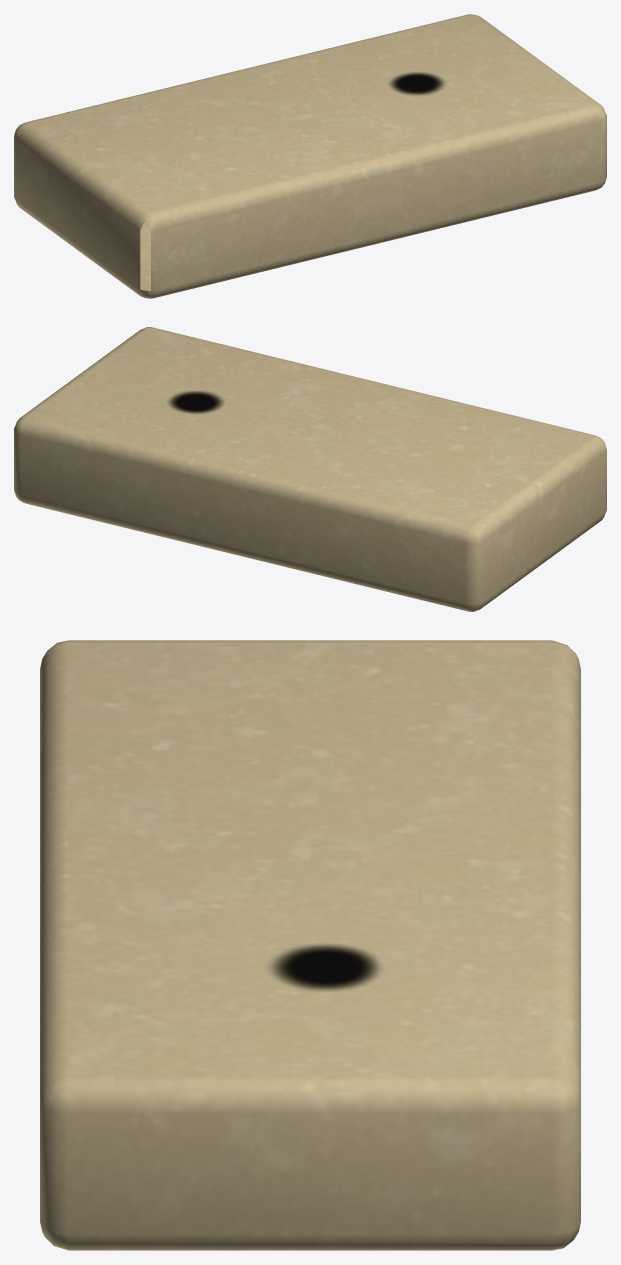
Rendered from SM_Domino_1_.fbx.
3 renders of one model, top to bottom at view 1: azimuth 30°, elevation 25°; view 2: azimuth 150°, elevation 25°; view 3: azimuth 270°, elevation 25°, orthographic. The views are drawn at different scales.
Parts seen in each view (by area): view 1: SM_Domino_1/; view 2: SM_Domino_1/; view 3: SM_Domino_1/.
Part boxes in pixels (left/top/right/bottom): SM_Domino_1/: left=14, top=14, right=606, bottom=298; SM_Domino_1/: left=14, top=327, right=606, bottom=611; SM_Domino_1/: left=40, top=640, right=580, bottom=1250.
Bounding box in the file's own units: 5.08 × 0.889 × 2.54.
